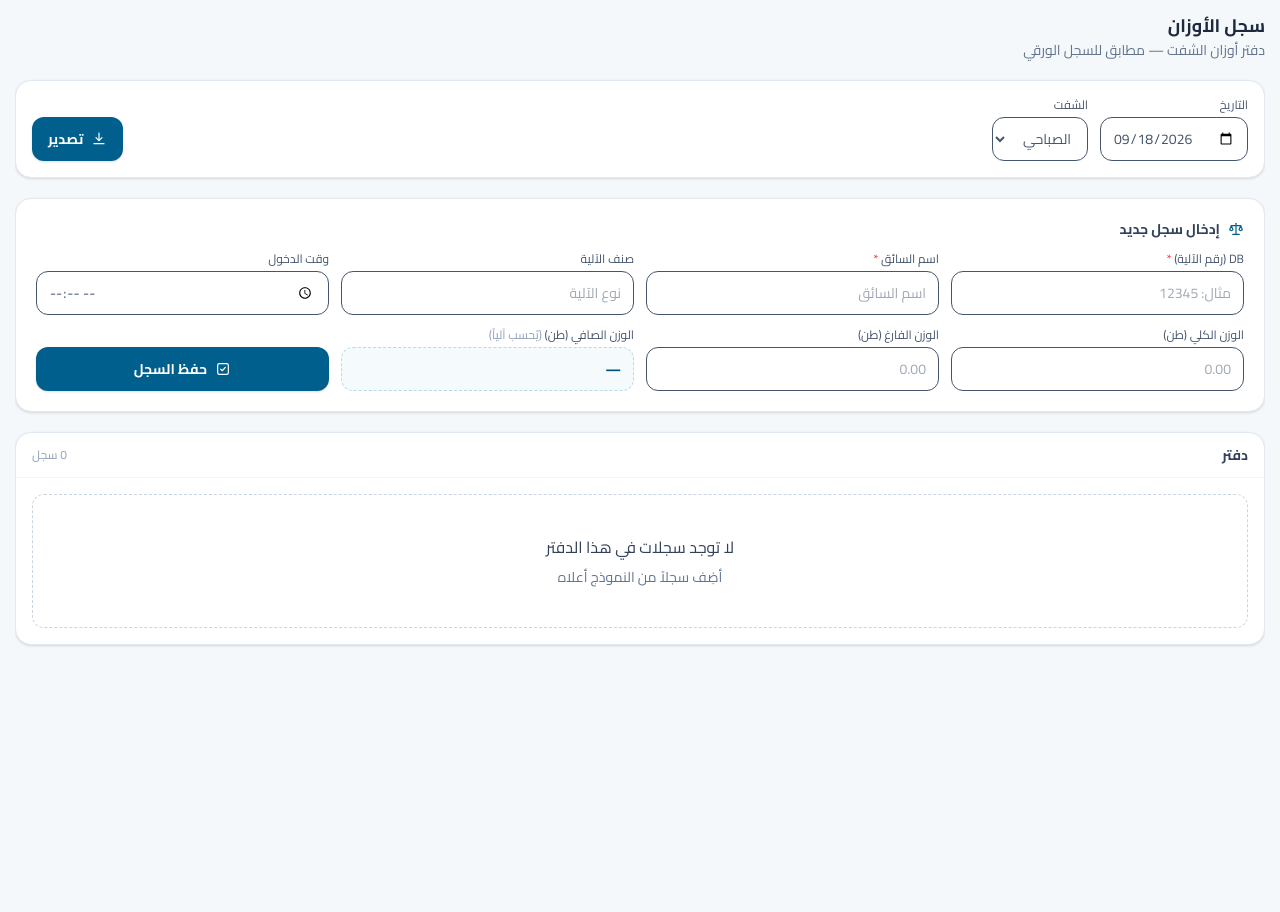
WeightsPage — التصدير › يفتح قائمة الخيارات الثلاثة
The width and height of the screenshot is (1280, 912).
Click the button with test id "export-menu-btn".
click(78, 139)  # box [32,117,123,161]
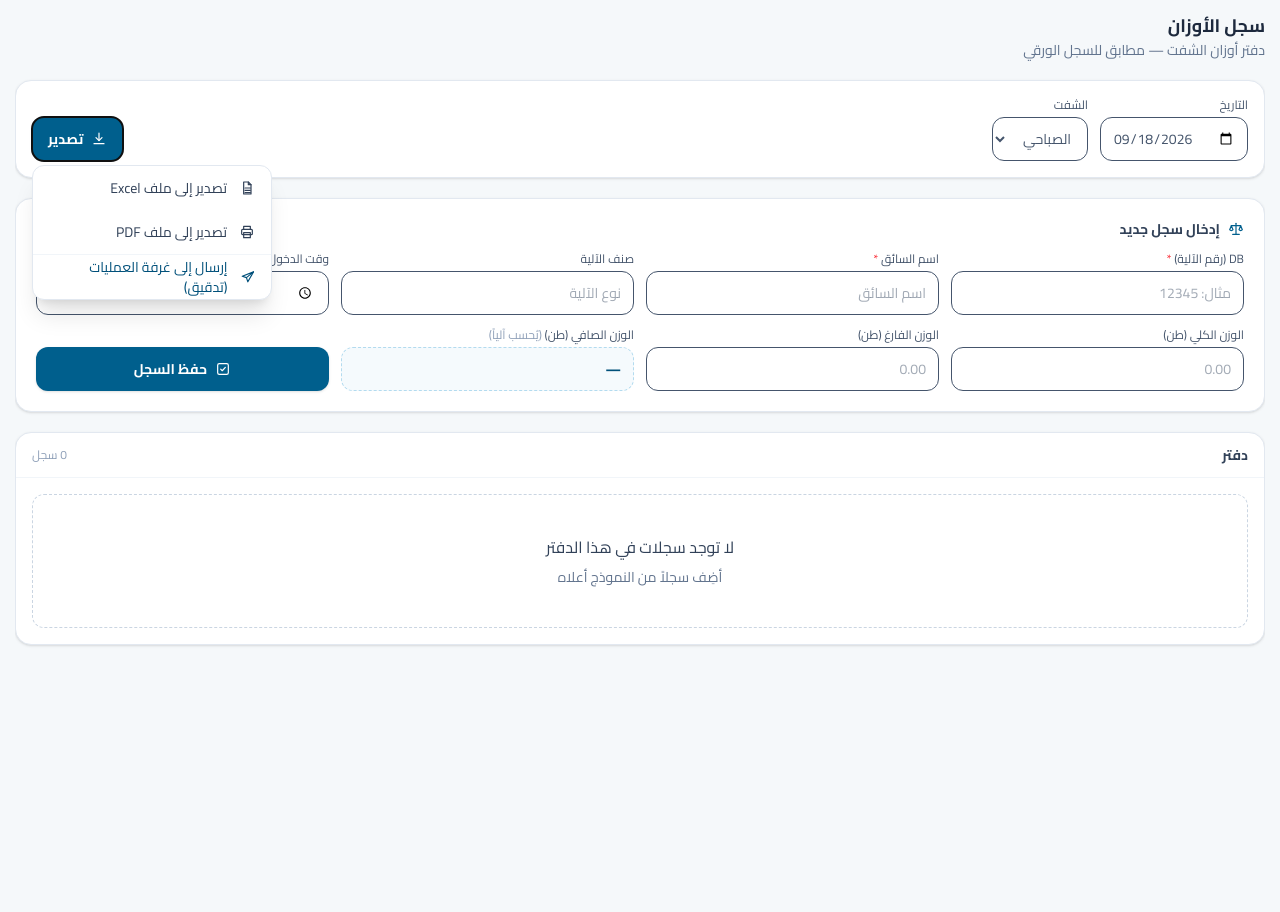
Check: the button with test id "export-excel" shows "Excel", box [33,166,271,210]
Check: the button with test id "export-pdf" shows "PDF", box [33,210,271,254]
Check: the button with test id "export-ops" shows "غرفة العمليات", box [33,255,271,299]
